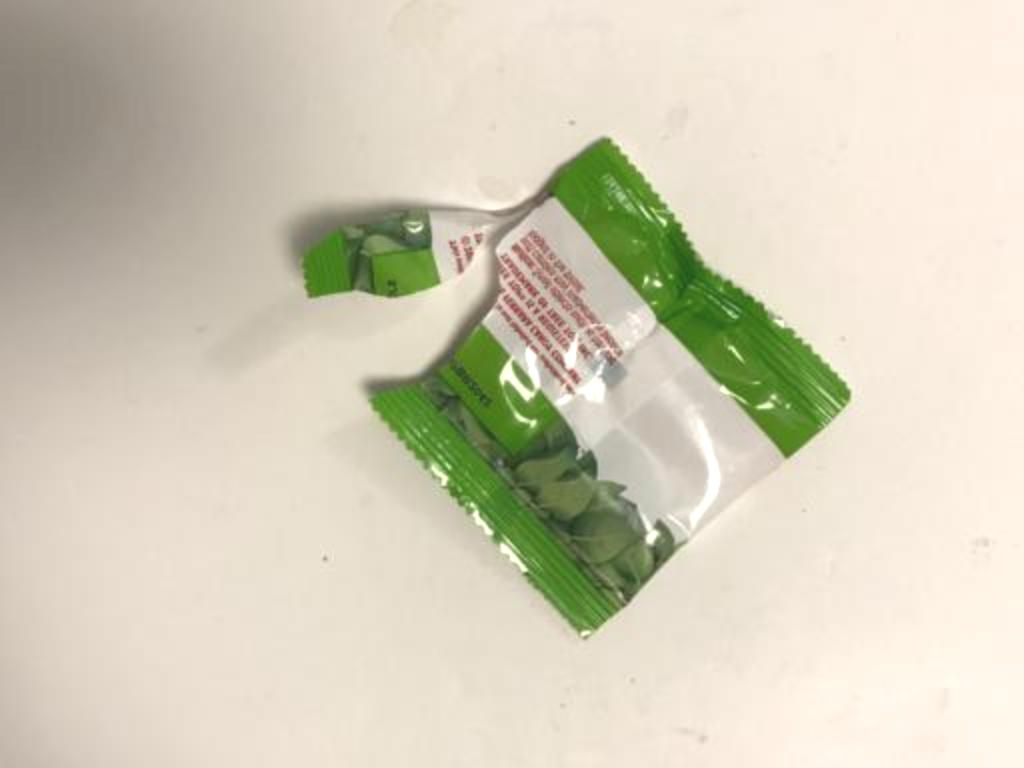garbage: (291, 100, 897, 662)
